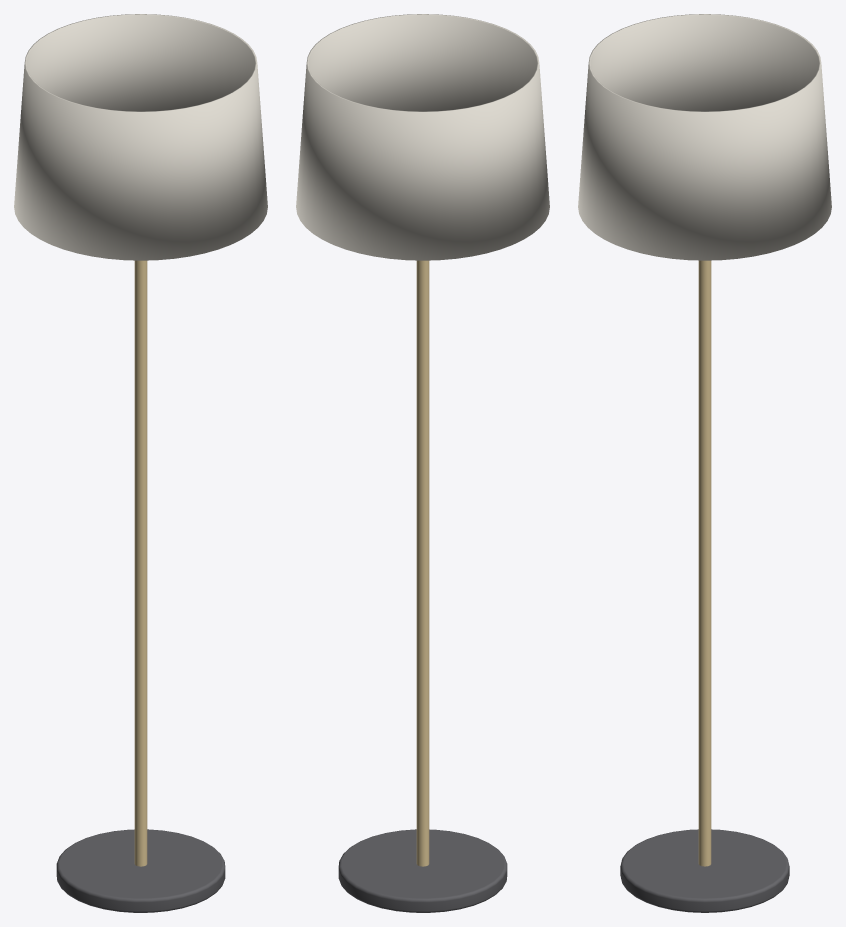
File: hotel-floor-lamp.glb
3 renders of one model, left to right at view 1: azimuth 30°, elevation 25°; view 2: azimuth 150°, elevation 25°; view 3: azimuth 270°, elevation 25°, orthographic.
Parts seen in each view (by area): view 1: shade, base, pole; view 2: shade, base, pole; view 3: shade, base, pole.
Boxes of the visible parts, x1,y1,x2,y2 form: shade: (14, 14, 267, 260); base: (56, 829, 225, 912); pole: (134, 260, 147, 866); shade: (296, 14, 549, 260); base: (338, 829, 507, 912); pole: (416, 260, 429, 866); shade: (578, 14, 831, 260); base: (620, 829, 789, 912); pole: (698, 260, 711, 866).
Bounding box in the file's own units: 0.48 × 1.7 × 0.48.
